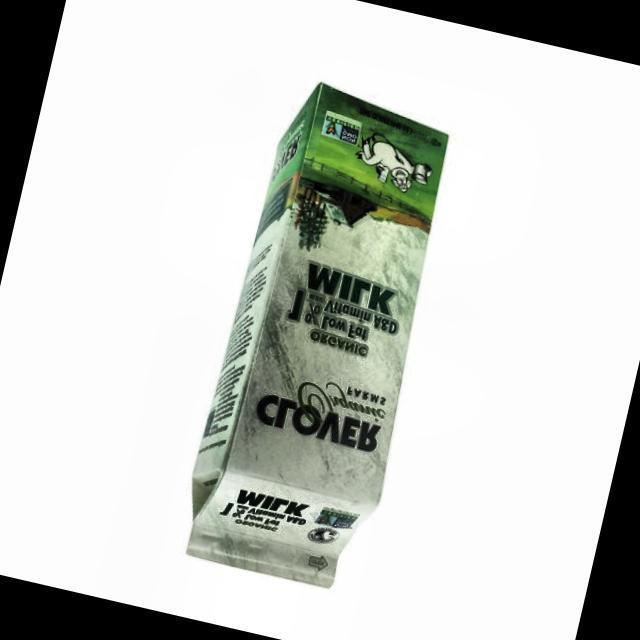cardboard: (172, 74, 468, 598)
